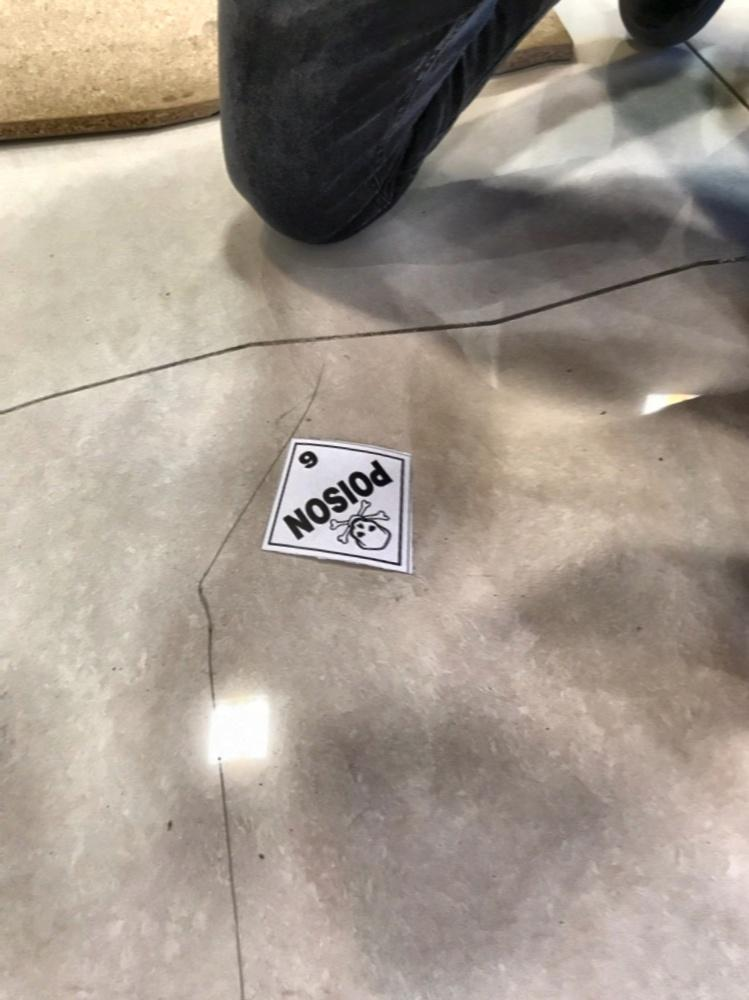poison: (261, 430, 422, 578)
